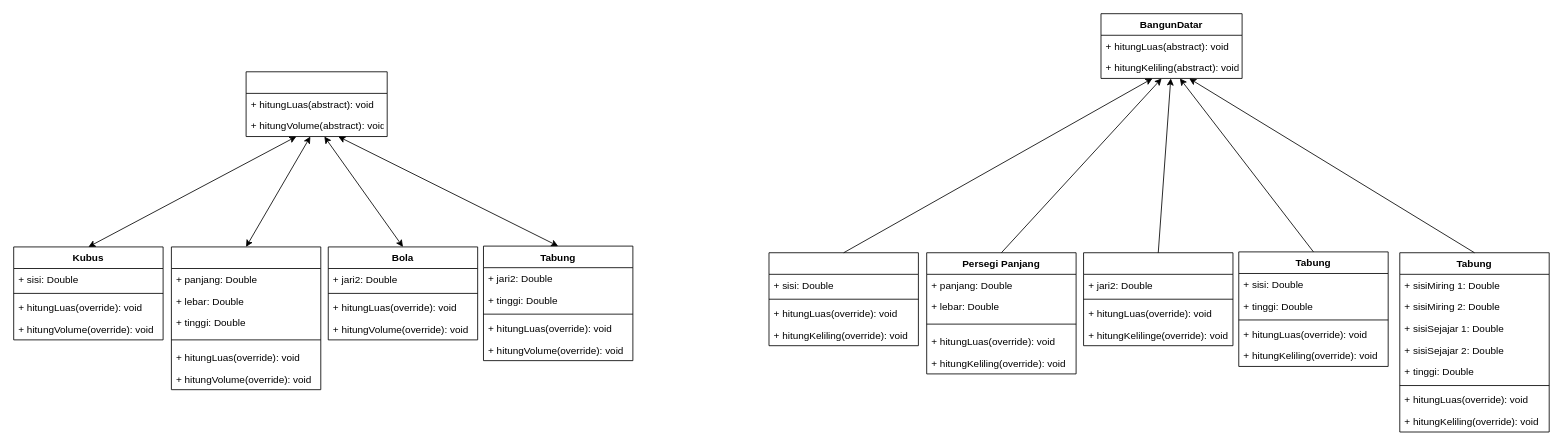
The diagram is 1563 pixels wide and 446 high, and some of its shapes have lost their labels. The box of each missing label's shape, as (x1, y1, x2, y2) in pixels:
Balok: (171, 246, 321, 390)
BangunRuang: (245, 71, 387, 137)
Lingkaran: (1083, 252, 1233, 346)
Persegi: (768, 252, 918, 346)
